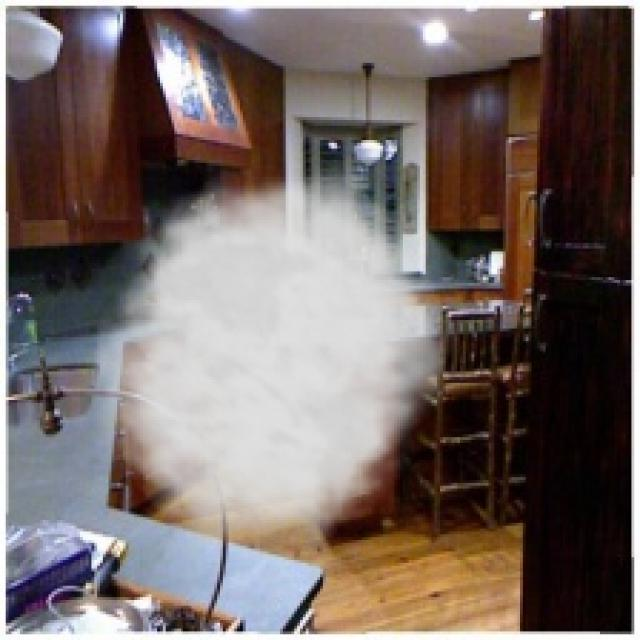Smoke: (74, 155, 460, 554)
